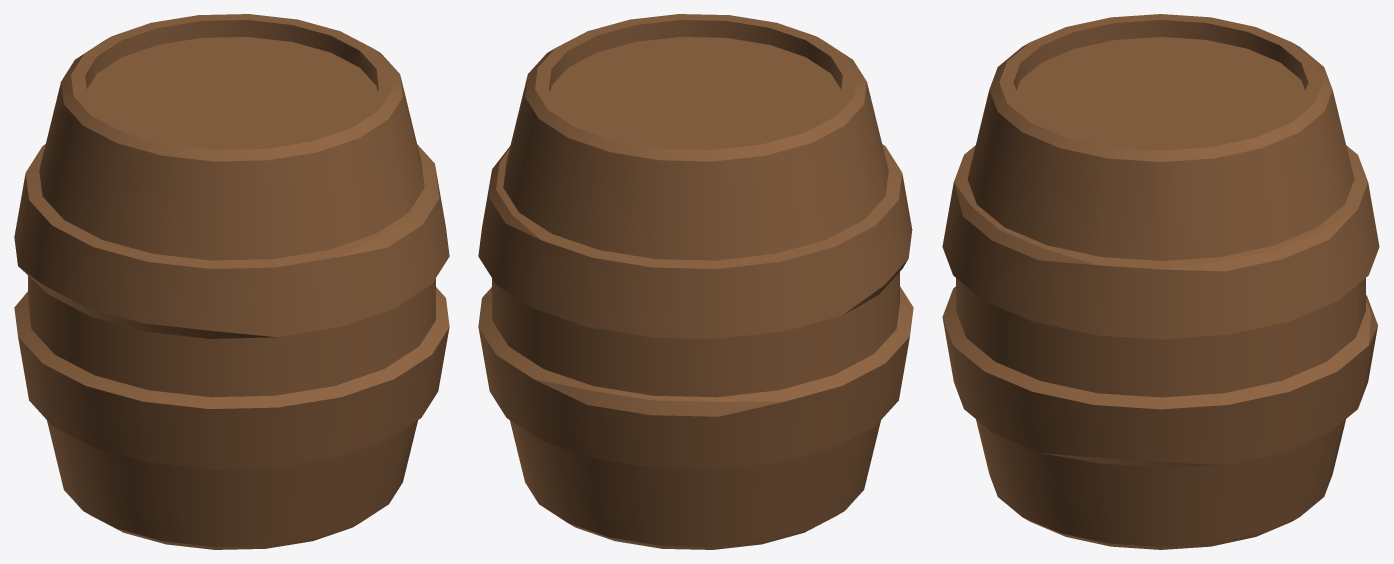
File: barrel.glb
3 views of the same model, side by side, from view 1: azimuth 30°, elevation 25°; view 2: azimuth 150°, elevation 25°; view 3: azimuth 270°, elevation 25° (orthographic).
Parts seen in each view (by area): view 1: barrel; view 2: barrel; view 3: barrel.
Part boxes in pixels (x1,y1,x2,y2): barrel: (14,14,449,549); barrel: (478,14,913,549); barrel: (942,14,1379,549).
Size of the model in its own units: 0.9422 by 0.95 by 0.9422.
